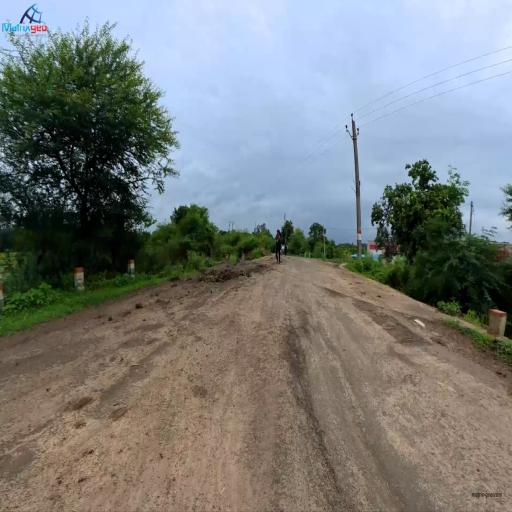ravelling: (265, 321, 391, 480)
